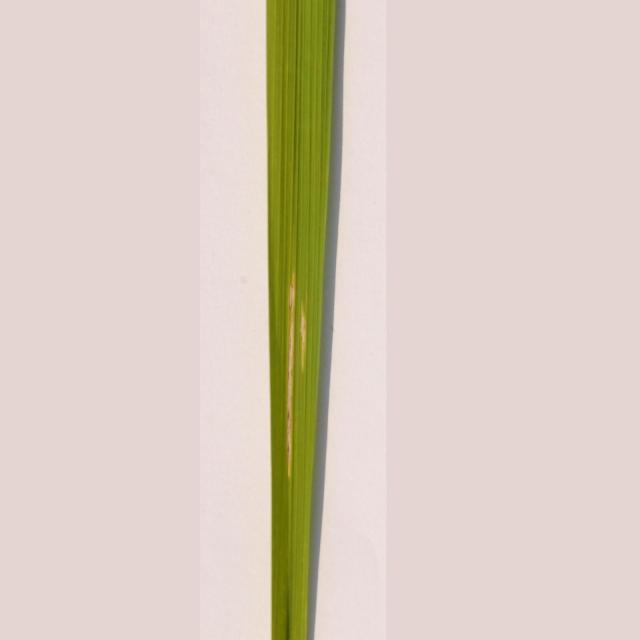leaf blight: (275, 268, 327, 489)
